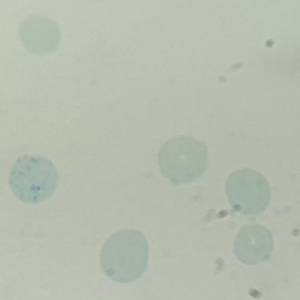erythrocyte: (98, 228, 150, 284), (157, 134, 209, 185), (224, 167, 273, 218), (232, 223, 276, 266), (18, 14, 63, 56)
punctate reticulocyte: (7, 155, 59, 205)
